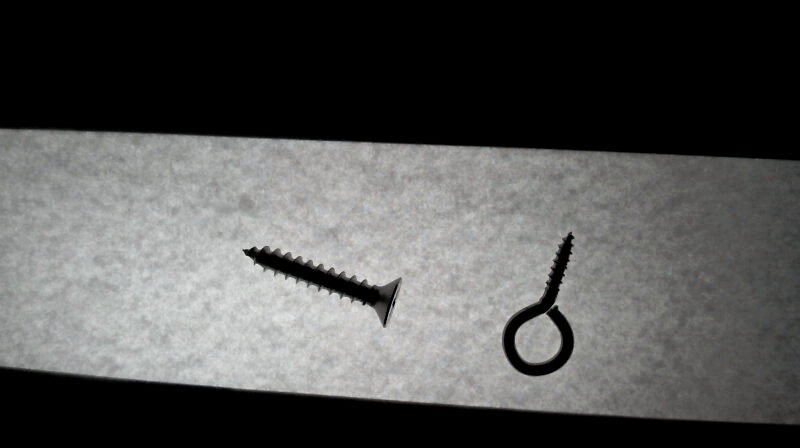O001: (499, 226, 590, 379)
S001: (237, 243, 405, 330)
